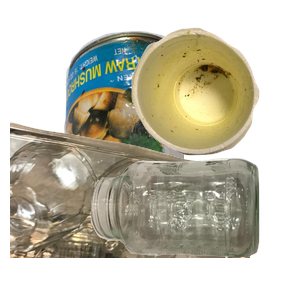glass: (88, 156, 300, 300)
metal: (60, 28, 300, 208)
plastic: (10, 120, 250, 300)
trash: (129, 25, 300, 173)
